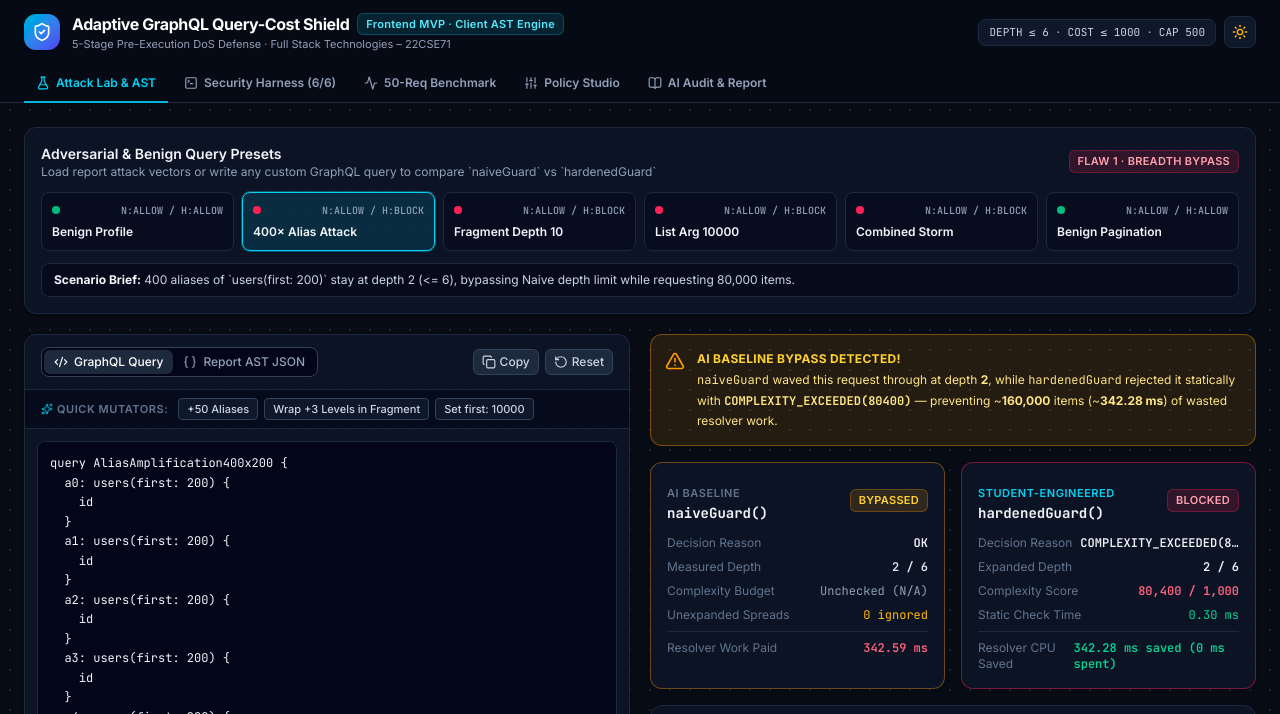
Test: Adaptive GraphQL Query-Cost Shield UI › navigates across Benchmark, Policy Studio, and AI Audit tabs
This screenshot has width=1280, height=714.
Click the button "50-Req Benchmark" at (430, 84), box [352,64,508,102]
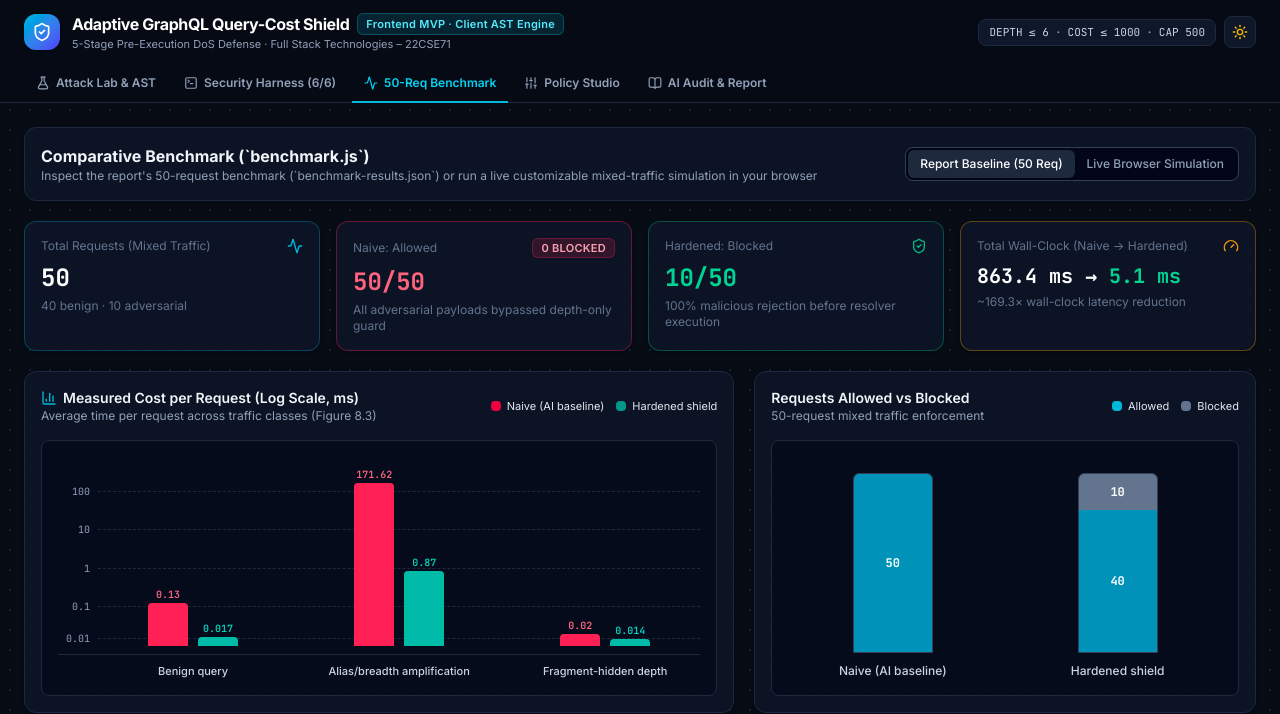
Expected: the text "863.4 ms → 5.1 ms" is shown, [977,262,1181,288]
Click the button "Policy Studio" at (572, 84), box [512,64,632,102]
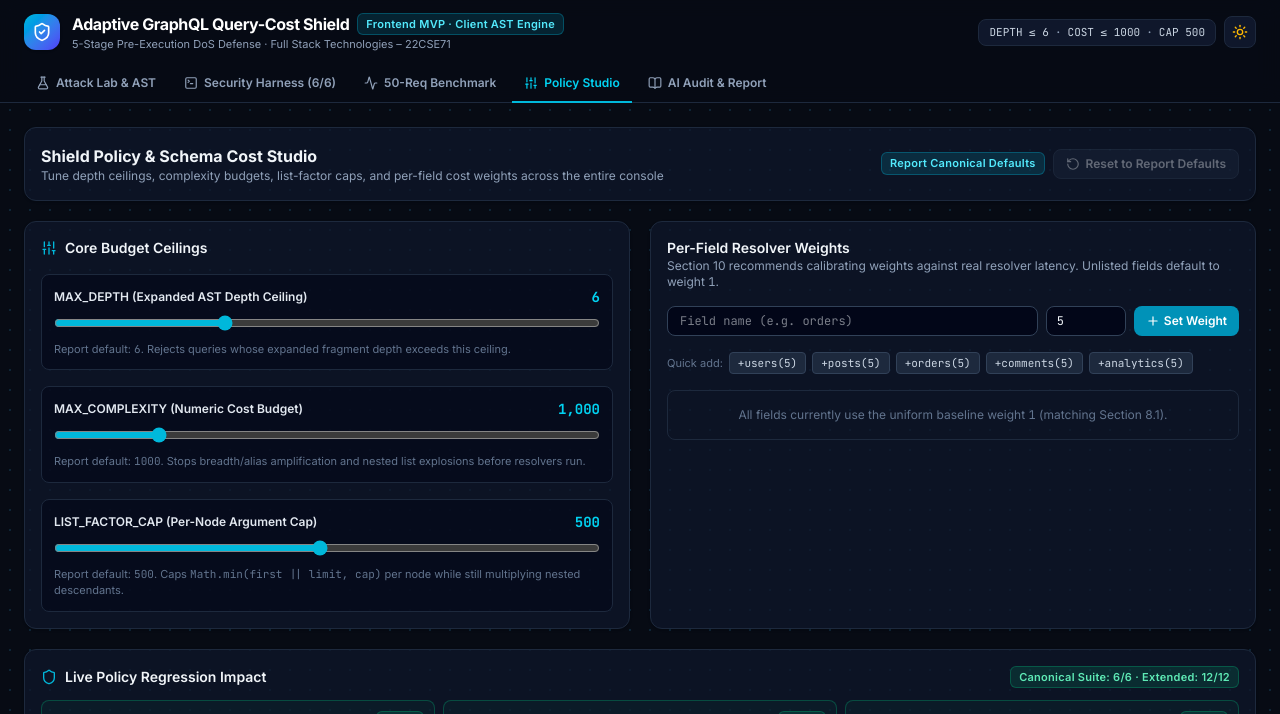
Expected: the heading "Shield Policy & Schema Cost Studio" is shown, [41,146,317,166]
Click the button "AI Audit & Report" at (707, 84), box [636,64,779,102]
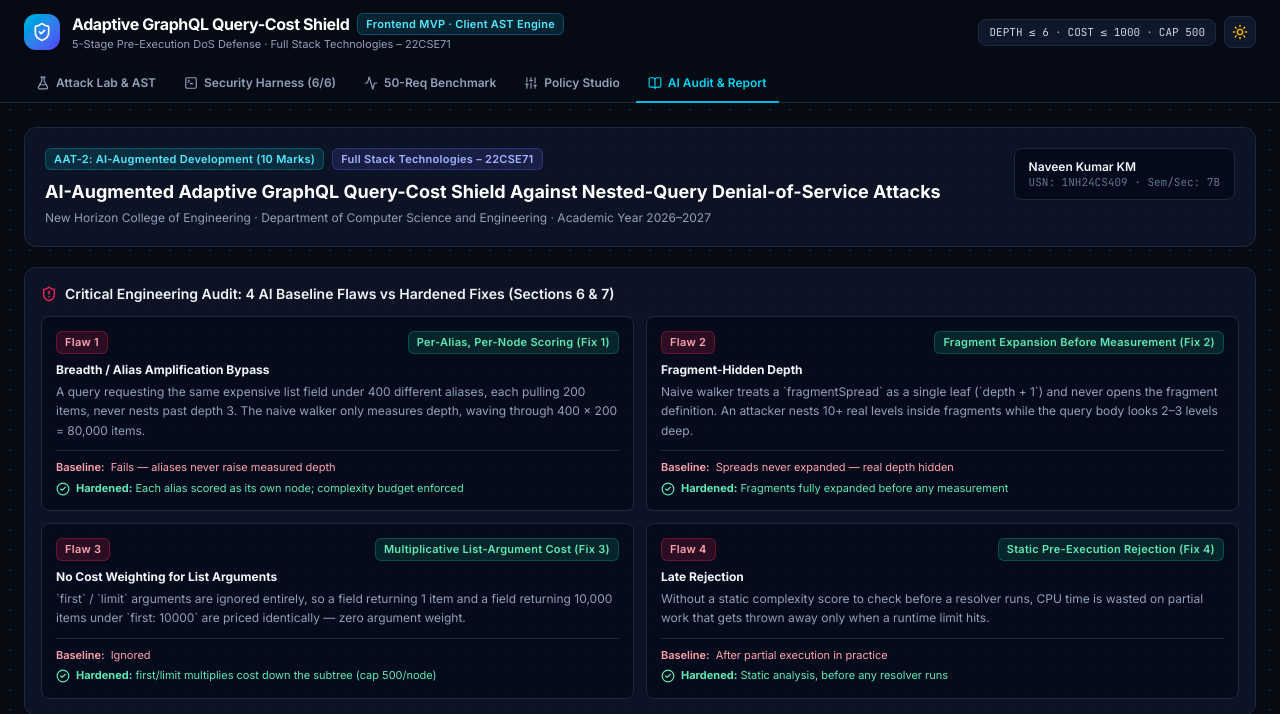
Expected: the heading "Critical Engineering Audit: 4 AI Baseline Flaws" is shown, [65,285,614,302]
